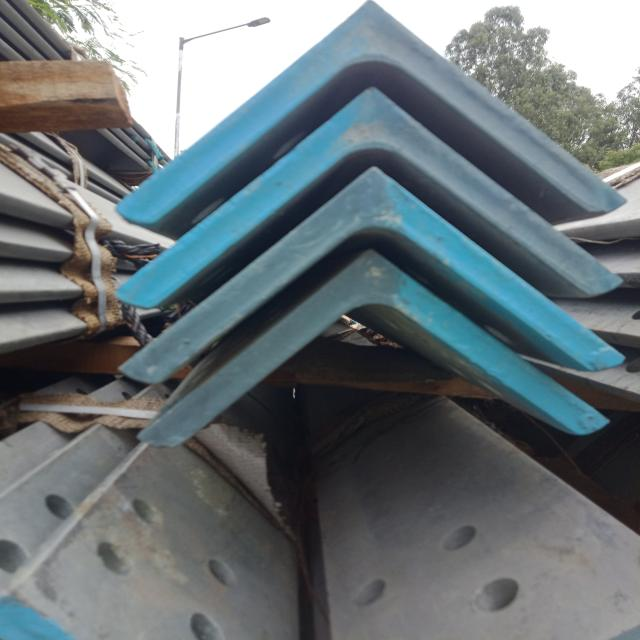metal-angles: (114, 0, 630, 225), (120, 162, 628, 385), (115, 86, 625, 308), (138, 249, 610, 446)
